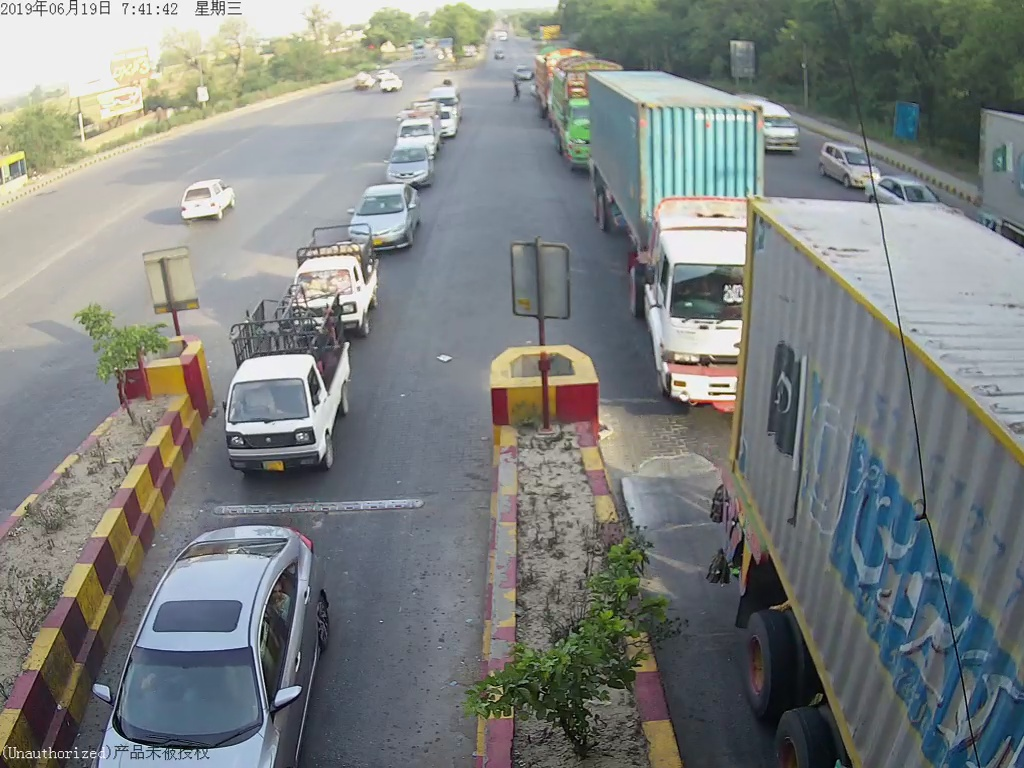Cat-1: (217, 317, 372, 481), (290, 236, 377, 307)
Cat-5: (602, 85, 738, 412)
